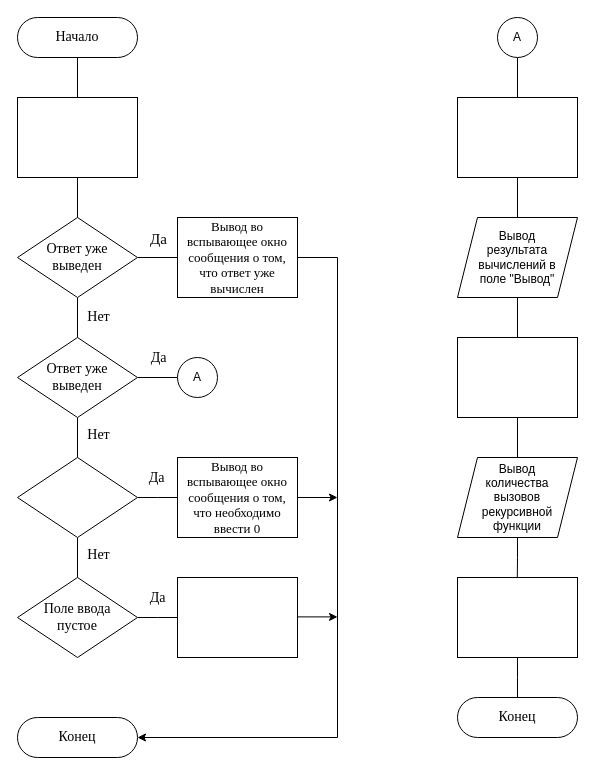
Image size: 595x775. Some labels were removed from this diagram. Each missing label, with the centre of its shape:
"q = 0" belongs at pixel 77 137.
"Вывод во вспывающее окно сообщения о том, что надо ввести последовательность" belongs at pixel 237 617.
"Инициализвация итератора, привоение ему значение - 0" belongs at pixel 517 137.
"Поле ввода не пустое и оканчивается 0" belongs at pixel 77 497.
"Присвоение итератору значения = 0, double_click_bool = true" belongs at pixel 517 377.
"Присвоение счётчику кол-ва функции значения = 0" belongs at pixel 517 617.
